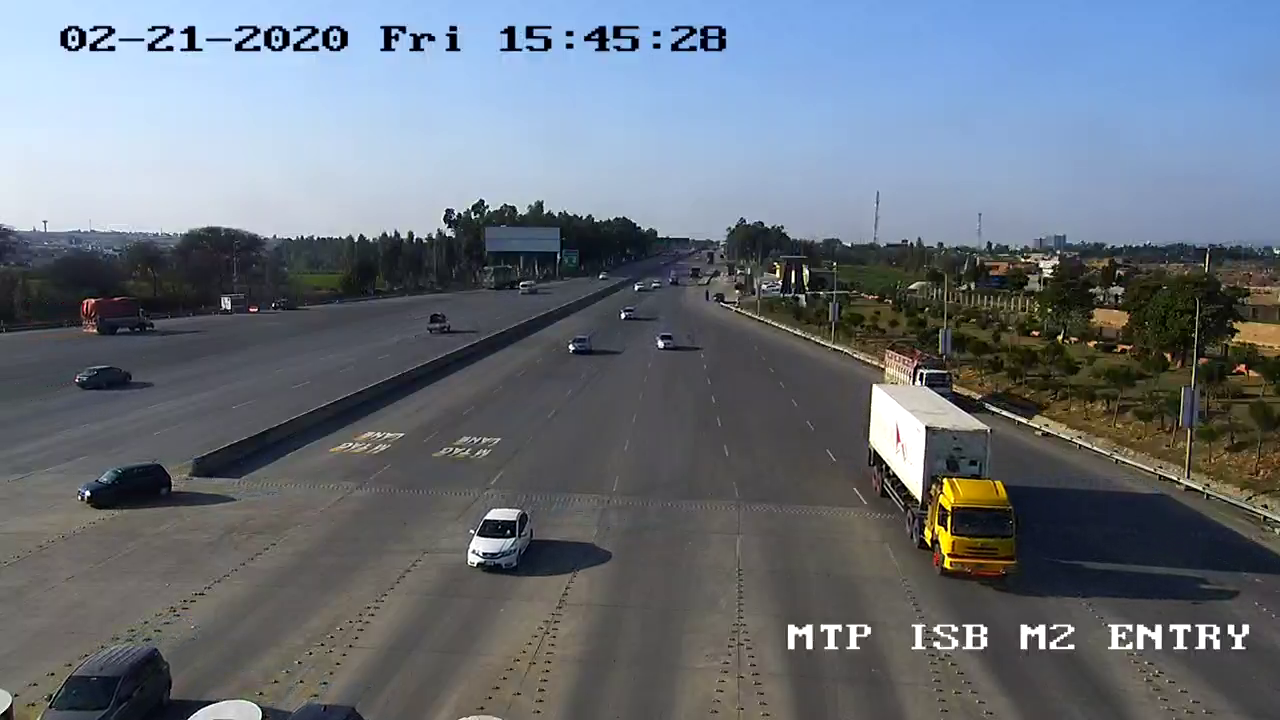f1: (457, 492, 539, 578)
f6: (848, 375, 1025, 588)
